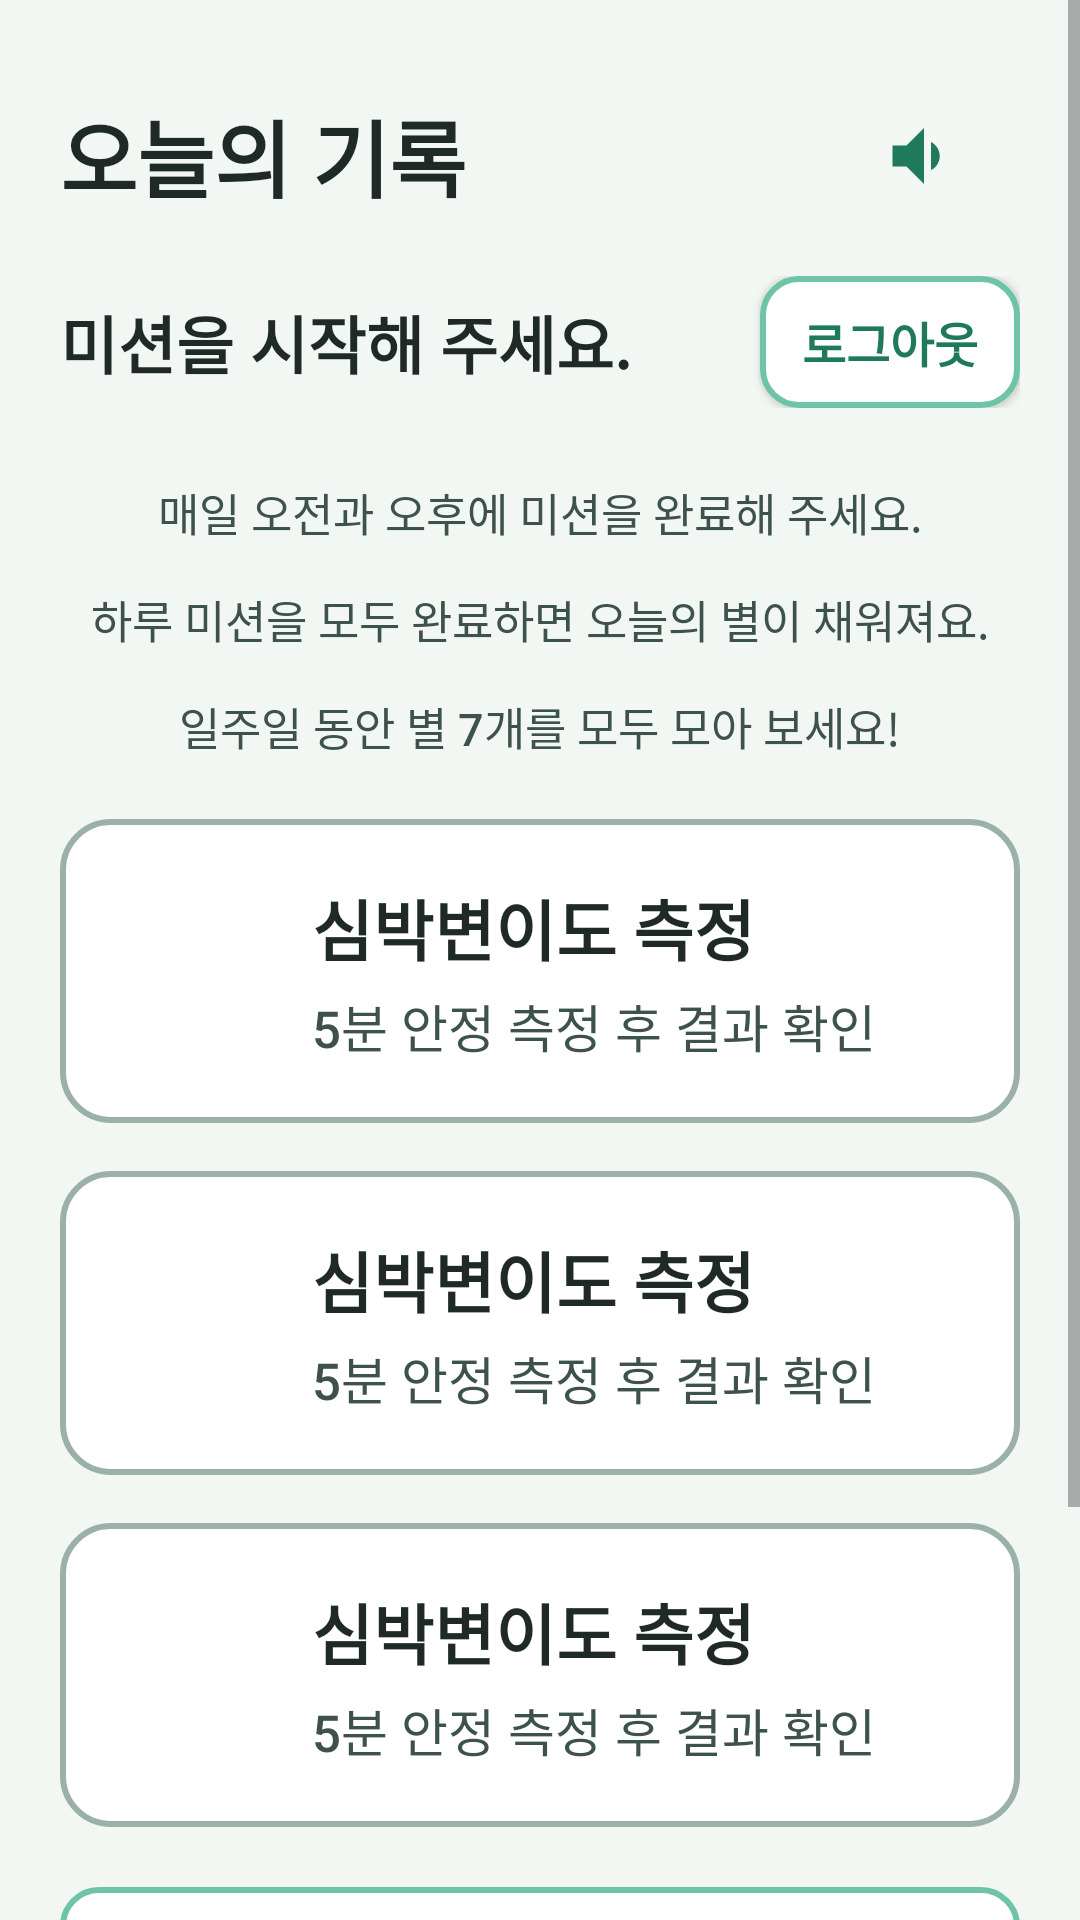

Where to tap for icons on this 1080*1920 app screen, as [x,y]:
읽어주기: [916,156]
